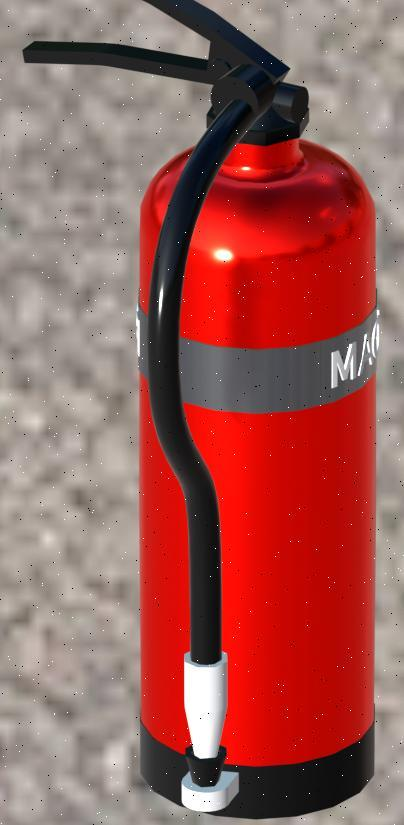Fire Extinguisher: (2, 10, 404, 810)
